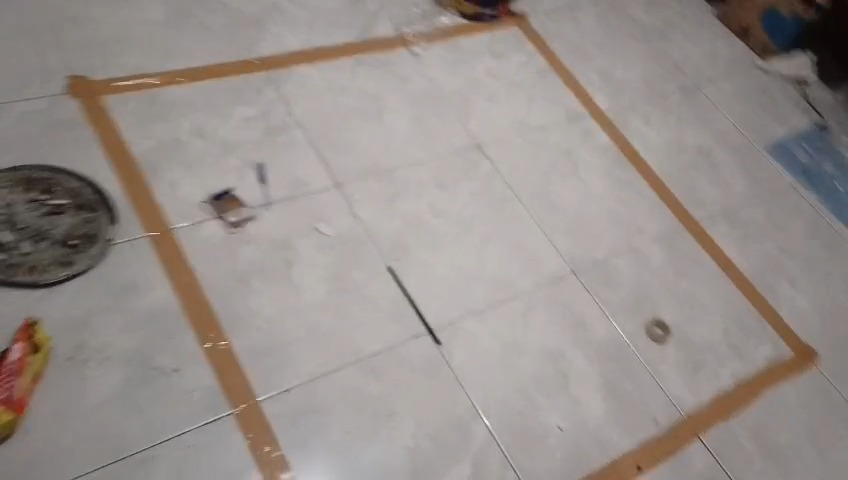floor marking: (421, 15, 817, 479), (67, 35, 414, 479)
